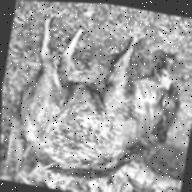boar: (10, 25, 192, 192)
